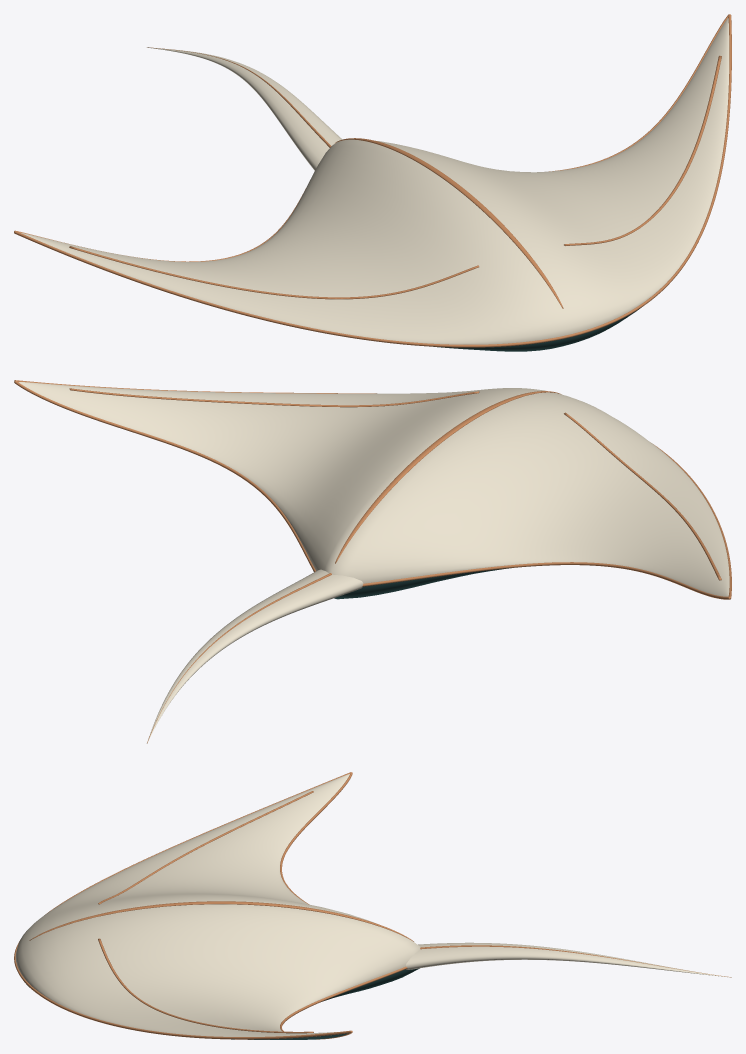
3 views of the same model, one above another, from view 1: azimuth 30°, elevation 25°; view 2: azimuth 150°, elevation 25°; view 3: azimuth 270°, elevation 25° (orthographic). The views are drawn at different scales.
Visible parts, largest first — view 1: A | continuous porcelain wing, E | tapered ceramic tail, B | leading copper seam, G | copper dorsal midrib, C | swept copper inlay -1, C | swept copper inlay 1, B | trailing copper seam; view 2: A | continuous porcelain wing, E | tapered ceramic tail, B | trailing copper seam, G | copper dorsal midrib, C | swept copper inlay 1, B | leading copper seam, C | swept copper inlay -1; view 3: A | continuous porcelain wing, E | tapered ceramic tail, B | leading copper seam, G | copper dorsal midrib, B | trailing copper seam, C | swept copper inlay 1, C | swept copper inlay -1, F | tail copper spine.
Boxes of the visible parts, <box> form: A | continuous porcelain wing: <box>20,18,729,351</box>; E | tapered ceramic tail: <box>148,47,342,170</box>; B | leading copper seam: <box>14,14,731,347</box>; G | copper dorsal midrib: <box>335,138,563,308</box>; C | swept copper inlay -1: <box>69,246,479,299</box>; C | swept copper inlay 1: <box>564,55,721,245</box>; B | trailing copper seam: <box>14,14,728,261</box>; A | continuous porcelain wing: <box>18,382,729,599</box>; E | tapered ceramic tail: <box>146,569,363,743</box>; B | trailing copper seam: <box>14,381,729,599</box>; G | copper dorsal midrib: <box>335,391,561,563</box>; C | swept copper inlay 1: <box>69,388,479,407</box>; B | leading copper seam: <box>14,380,731,599</box>; C | swept copper inlay -1: <box>564,412,721,580</box>; A | continuous porcelain wing: <box>15,774,420,1039</box>; E | tapered ceramic tail: <box>405,942,731,977</box>; B | leading copper seam: <box>14,772,351,1039</box>; G | copper dorsal midrib: <box>29,901,413,941</box>; B | trailing copper seam: <box>280,772,407,1039</box>; C | swept copper inlay 1: <box>98,938,313,1033</box>; C | swept copper inlay -1: <box>98,791,313,904</box>; F | tail copper spine: <box>420,945,731,977</box>.
Size of the model in its own units: 10 by 1.68 by 10.28.
